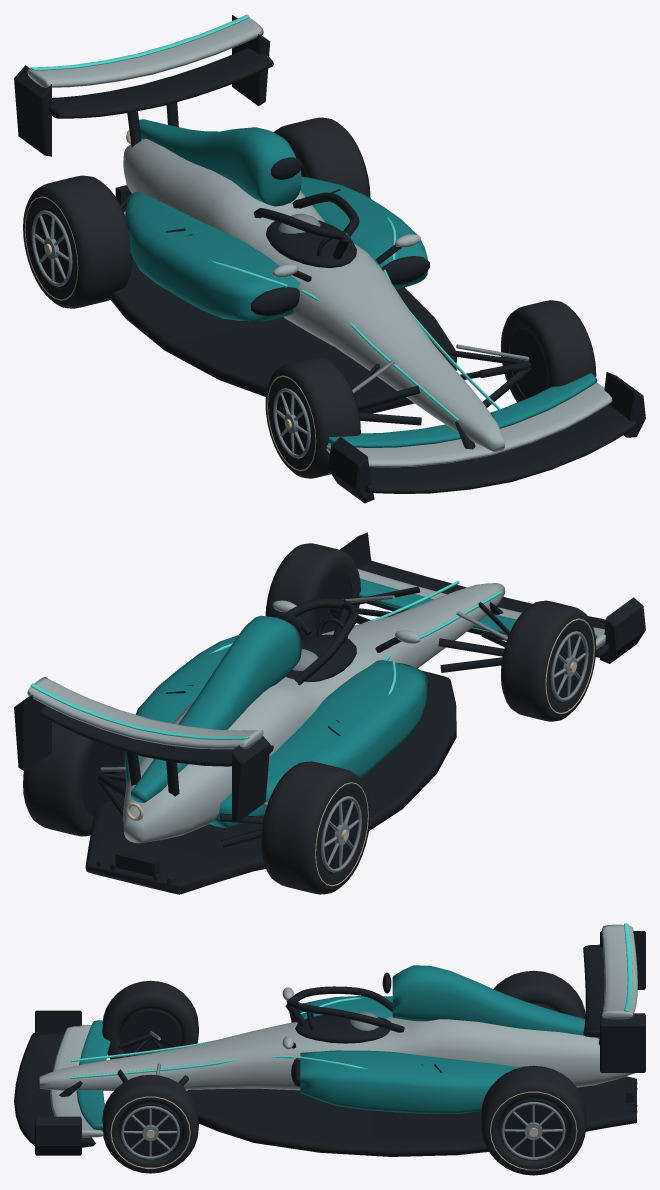
Rendered from car.glb.
3 renders of one model, top to bottom at view 1: azimuth 30°, elevation 25°; view 2: azimuth 150°, elevation 25°; view 3: azimuth 270°, elevation 25°, orthographic. The views are drawn at different scales.
Parts seen in each view (by area): view 1: Chassis, Front wing, Sidepods, Rear wheels, Rear wing, Front wheels, Engine cover, Suspension, Cockpit, Halo, Livery, Mirrors; view 2: Chassis, Rear wheels, Sidepods, Front wheels, Rear wing, Engine cover, Front wing, Suspension, Cockpit, Halo, Tail, Livery (+1 smaller); view 3: Chassis, Front wheels, Sidepods, Rear wheels, Front wing, Rear wing, Engine cover, Cockpit, Halo, Livery, Suspension.
Boxes of the visible parts, x1,y1,x2,y2 form: Chassis: (109, 139, 505, 452); Front wing: (326, 372, 645, 503); Sidepods: (125, 176, 429, 321); Rear wheels: (23, 117, 370, 308); Rear wing: (14, 14, 273, 156); Front wheels: (265, 300, 596, 478); Engine cover: (139, 119, 301, 206); Suspension: (120, 196, 531, 425); Cockpit: (266, 213, 356, 268); Halo: (253, 192, 359, 259); Livery: (212, 217, 500, 421); Mirrors: (272, 234, 420, 281); Chassis: (85, 583, 505, 894); Rear wheels: (23, 721, 370, 894); Sidepods: (125, 635, 429, 827); Front wheels: (265, 543, 596, 721); Rear wing: (14, 677, 273, 822); Engine cover: (131, 612, 301, 802); Front wing: (340, 532, 645, 663); Suspension: (98, 586, 510, 847); Cockpit: (286, 617, 356, 681); Halo: (286, 598, 358, 685); Tail: (115, 802, 159, 876); Livery: (209, 580, 501, 695); Chassis: (39, 1016, 636, 1156); Front wheels: (102, 980, 198, 1173); Sidepods: (291, 996, 520, 1113); Rear wheels: (481, 970, 586, 1175); Front wing: (14, 1010, 110, 1155); Rear wing: (583, 923, 645, 1072); Engine cover: (382, 965, 599, 1038); Cockpit: (295, 1011, 390, 1043); Halo: (285, 986, 404, 1032); Livery: (70, 997, 367, 1078); Suspension: (117, 1031, 188, 1086).
Bounding box in the file's own units: 2.54 × 1.53 × 5.69.
